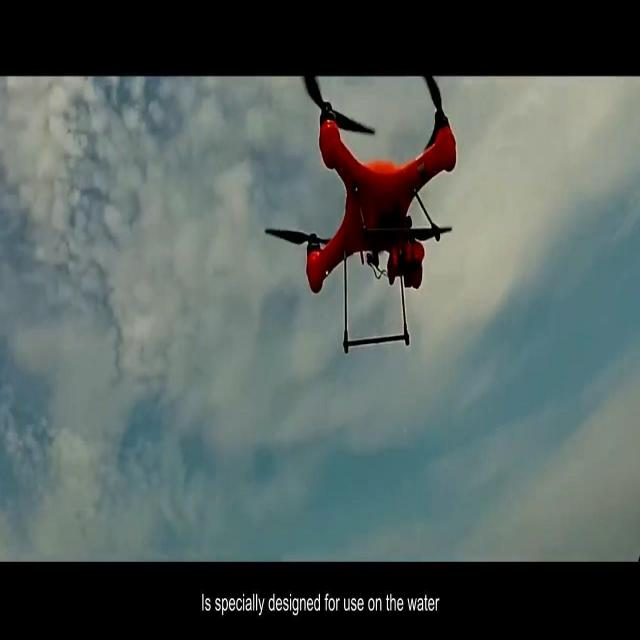UAV: (265, 77, 457, 353)
